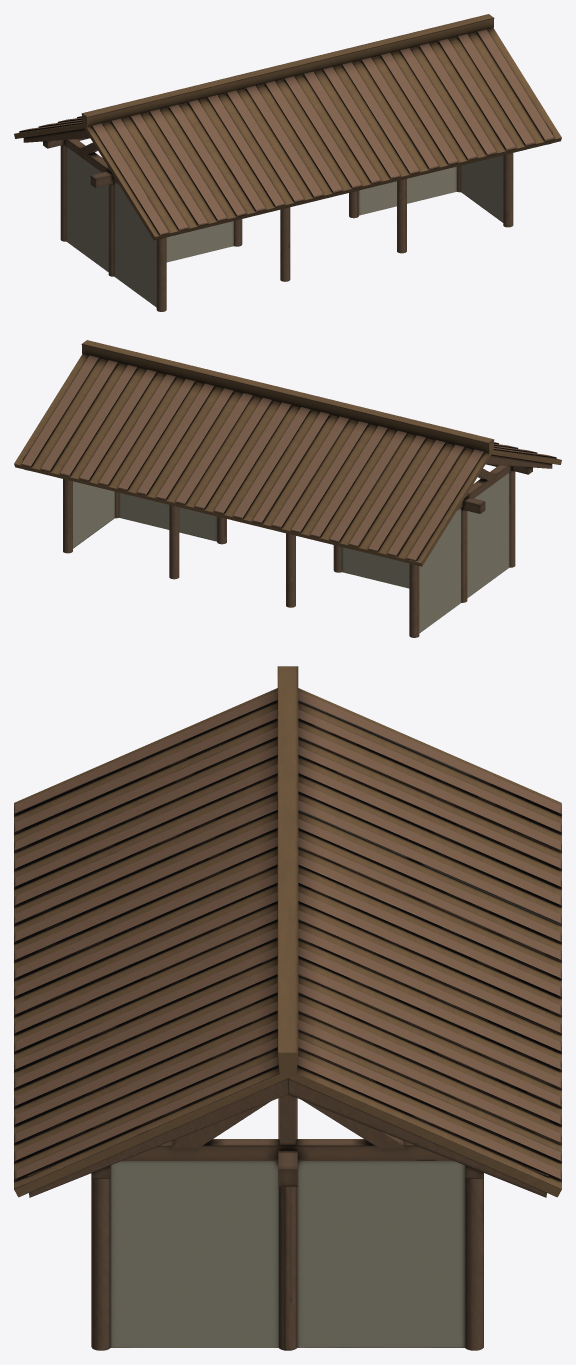
File: nanmon.glb
3 renders of one model, top to bottom at view 1: azimuth 30°, elevation 25°; view 2: azimuth 150°, elevation 25°; view 3: azimuth 270°, elevation 25°, orthographic. The views are drawn at different scales.
Parts seen in each view (by area): view 1: nanmon; view 2: nanmon; view 3: nanmon.
Boxes of the visible parts, x1,y1,x2,y2 form: nanmon: (14, 14, 561, 311); nanmon: (14, 340, 561, 637); nanmon: (14, 666, 561, 1350).
Bounding box in the file's own units: 14.1 × 5.51 × 8.45.
1 material, 1 textured.
